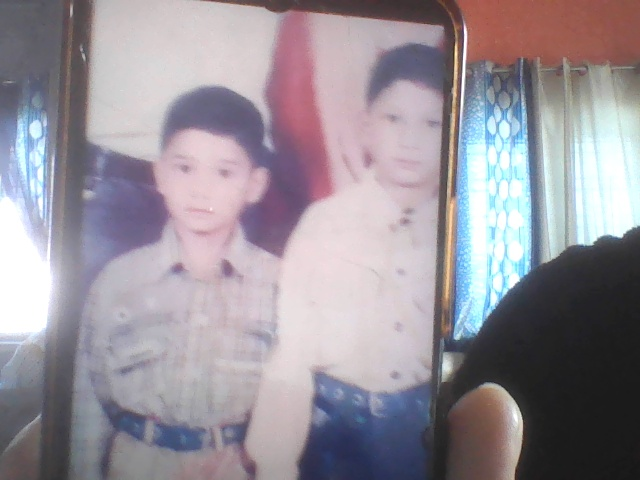fake: (155, 93, 265, 249)
